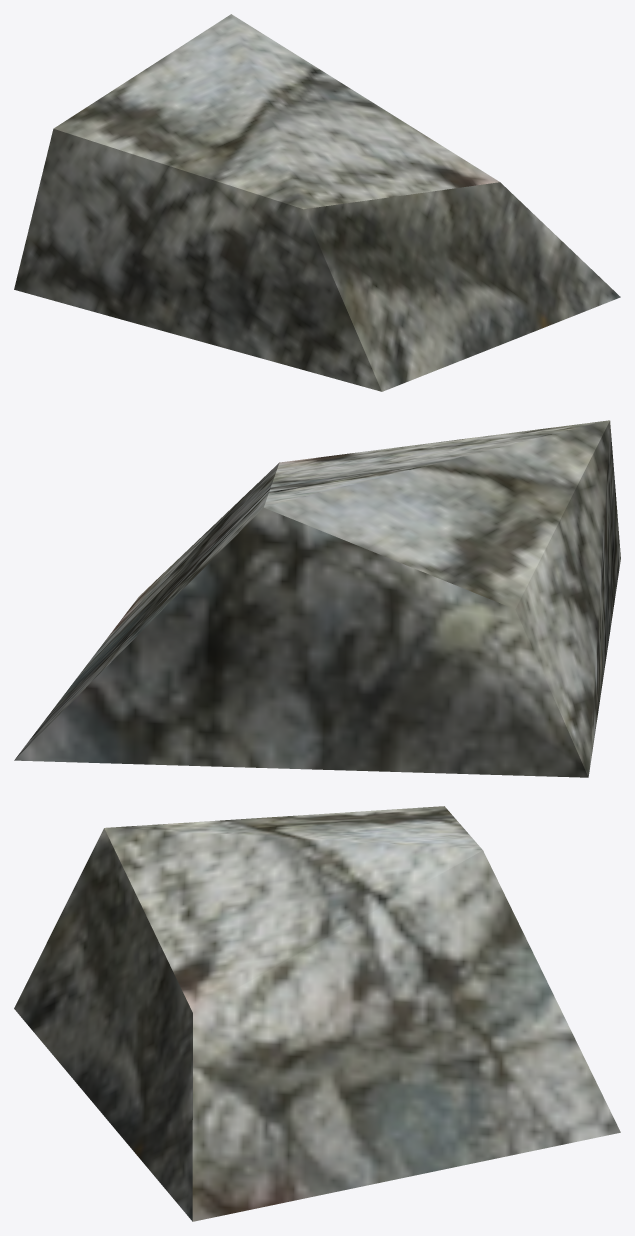
Rendered from rock02.fbx.
The picture shows the model from 3 angles, top to bottom: view 1: azimuth 30°, elevation 25°; view 2: azimuth 150°, elevation 25°; view 3: azimuth 270°, elevation 25°; orthographic projection. The views are drawn at different scales.
Visible parts, largest first — view 1: pCube1923; view 2: pCube1923; view 3: pCube1923.
Part boxes in pixels (<box>): pCube1923: <box>14,14,620,391</box>; pCube1923: <box>14,420,620,777</box>; pCube1923: <box>14,806,620,1221</box>.
Size of the model in its own units: 1.23 by 0.5688 by 1.27.
1 material, 1 textured.
